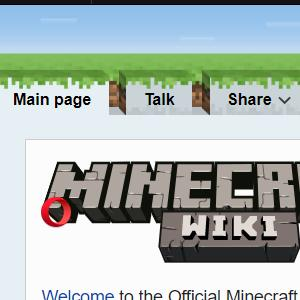opera: (41, 196, 72, 227)
